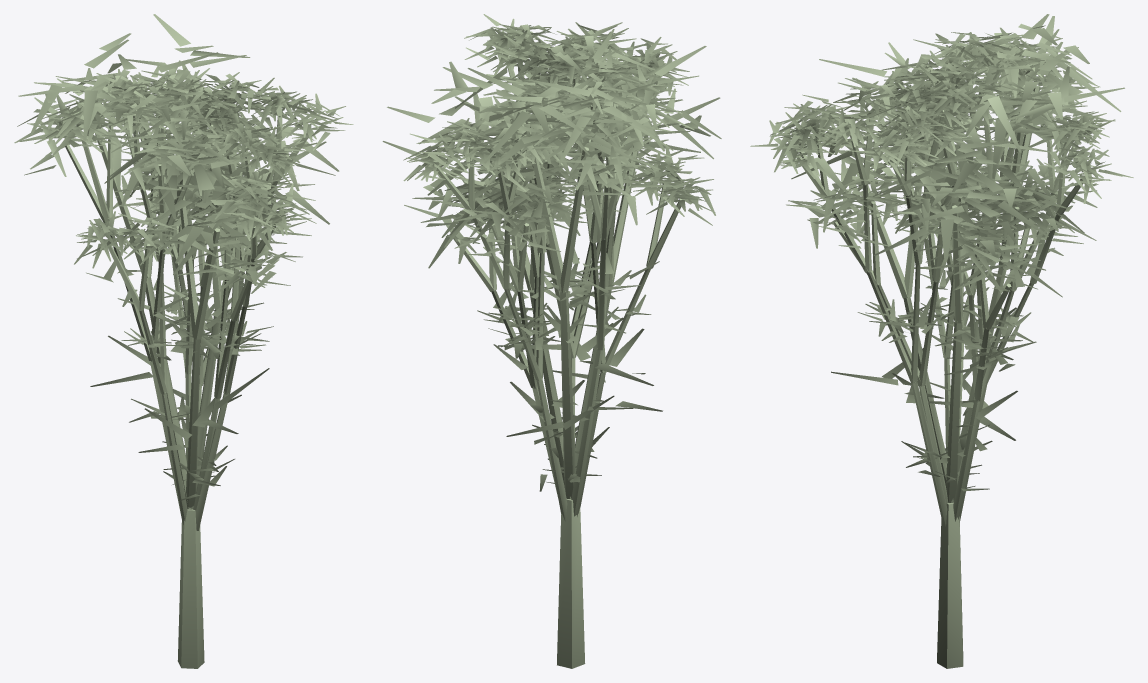
File: tree_cottonwood_narrow.glb
The picture shows the model from 3 angles, left to right: view 1: azimuth 30°, elevation 25°; view 2: azimuth 150°, elevation 25°; view 3: azimuth 270°, elevation 25°; orthographic projection. The views are drawn at different scales.
Parts seen in each view (by area): view 1: tier2_foliage, tier1_foliage, tier0_foliage, tier0_bark, tier2_bark, tier1_bark; view 2: tier2_foliage, tier1_foliage, tier0_foliage, tier0_bark, tier1_bark, tier2_bark; view 3: tier2_foliage, tier1_foliage, tier0_foliage, tier2_bark, tier0_bark, tier1_bark.
Part boxes in pixels (x1,y1,x2,y2): tier2_foliage: [74, 60, 353, 500]; tier1_foliage: [14, 68, 314, 486]; tier0_foliage: [18, 14, 339, 452]; tier0_bark: [95, 116, 263, 668]; tier2_bark: [108, 106, 308, 530]; tier1_bark: [65, 113, 250, 522]; tier2_foliage: [403, 14, 715, 491]; tier1_foliage: [404, 29, 698, 458]; tier0_foliage: [382, 46, 721, 436]; tier0_bark: [490, 131, 638, 668]; tier1_bark: [453, 103, 636, 516]; tier2_bark: [436, 55, 681, 521]; tier2_foliage: [750, 27, 1133, 491]; tier1_foliage: [786, 23, 1100, 476]; tier0_foliage: [782, 14, 1124, 440]; tier2_bark: [796, 61, 1084, 526]; tier0_bark: [858, 85, 1040, 668]; tier1_bark: [834, 85, 1039, 521].
Bounding box in the file's own units: 0.5082 × 1 × 0.5682.
